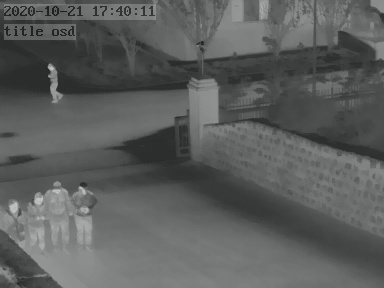person: (44, 184, 72, 250), (73, 183, 95, 246), (26, 192, 49, 252), (3, 199, 26, 244), (46, 62, 63, 102)
